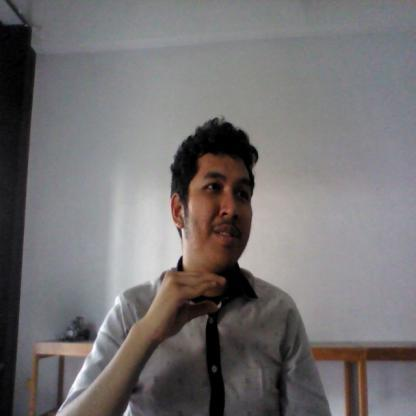Pagi: (138, 258, 232, 350)
